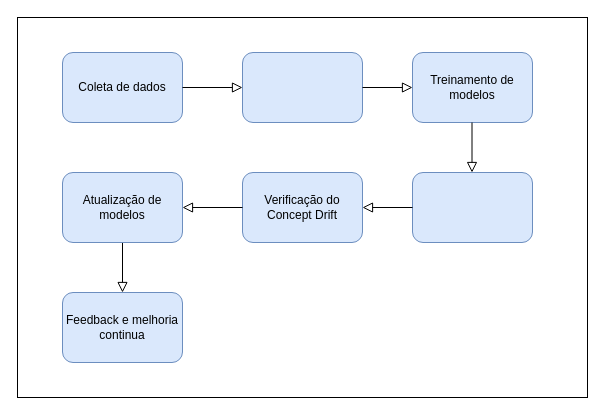
Image size: 605x415. Some labels were removed from this diagram. The shapes that lost their labels are listed below. From the top down, each one's centre as x and y in pixels, then its label:
the point at 302,87: Pré-processamento
the point at 472,207: Implementação e monitoramento
